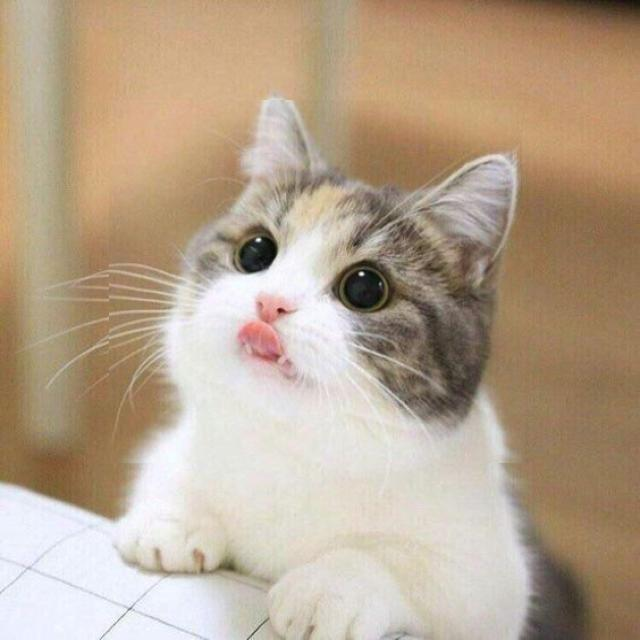Cat: (109, 101, 522, 464)
